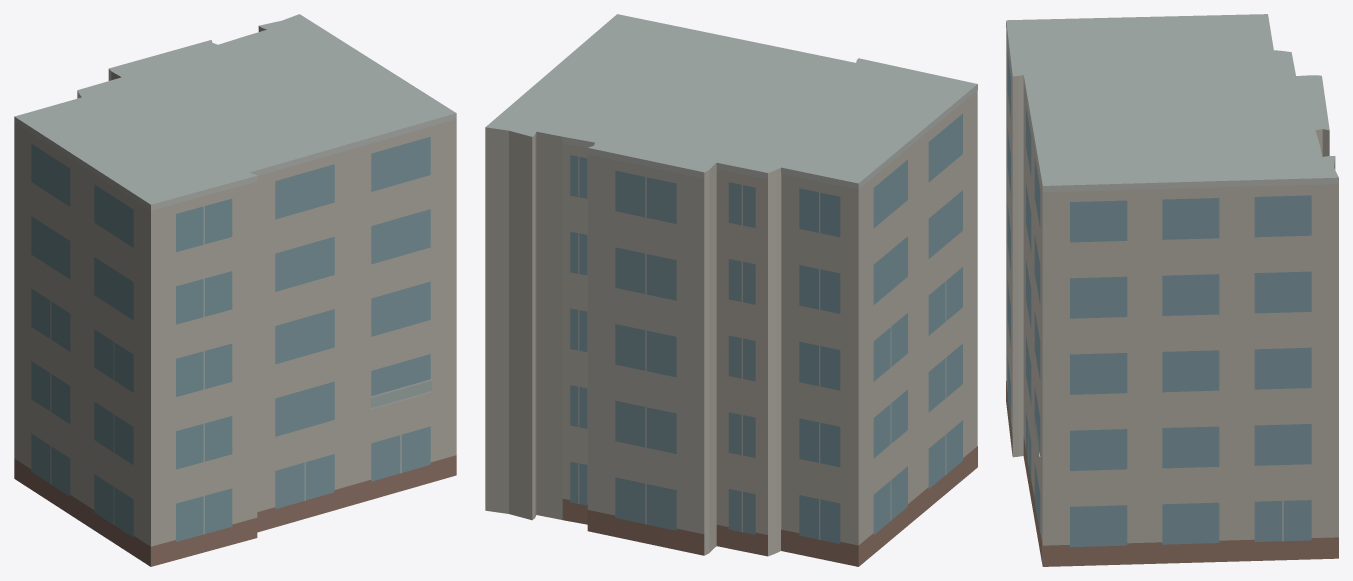
The model's file is survey-upis-32990574.glb.
3 renders of one model, left to right at view 1: azimuth 30°, elevation 25°; view 2: azimuth 150°, elevation 25°; view 3: azimuth 270°, elevation 25°, orthographic. The views are drawn at different scales.
Parts seen in each view (by area): view 1: survey-upis-32990574.tmp; view 2: survey-upis-32990574.tmp; view 3: survey-upis-32990574.tmp.
Boxes of the visible parts, x1,y1,x2,y2 form: survey-upis-32990574.tmp: (14, 14, 456, 566); survey-upis-32990574.tmp: (485, 14, 977, 566); survey-upis-32990574.tmp: (1006, 14, 1338, 566).
Bounding box in the file's own units: 14.54 × 15 × 11.88.
